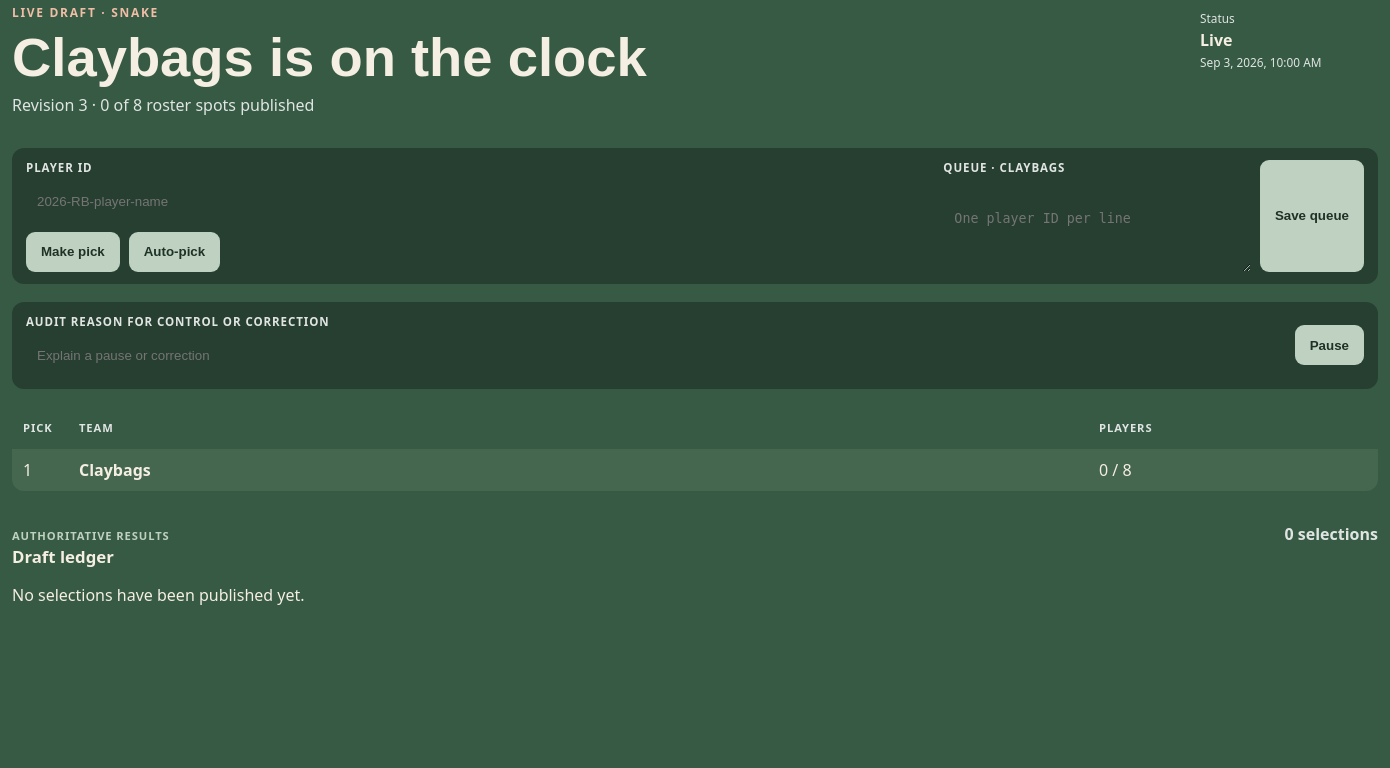
native draft workspace › sends a commissioner pick with exact draft and season revisions
Expected: the heading "Claybags is on the clock" is shown, [12,28,647,88]
Type "2026-RB-jahmyr-gibbs" into the field with placeholder "2026-RB-player-name".
click(477, 202); type("2026-RB-jahmyr-gibbs")  # box [26,181,927,223]
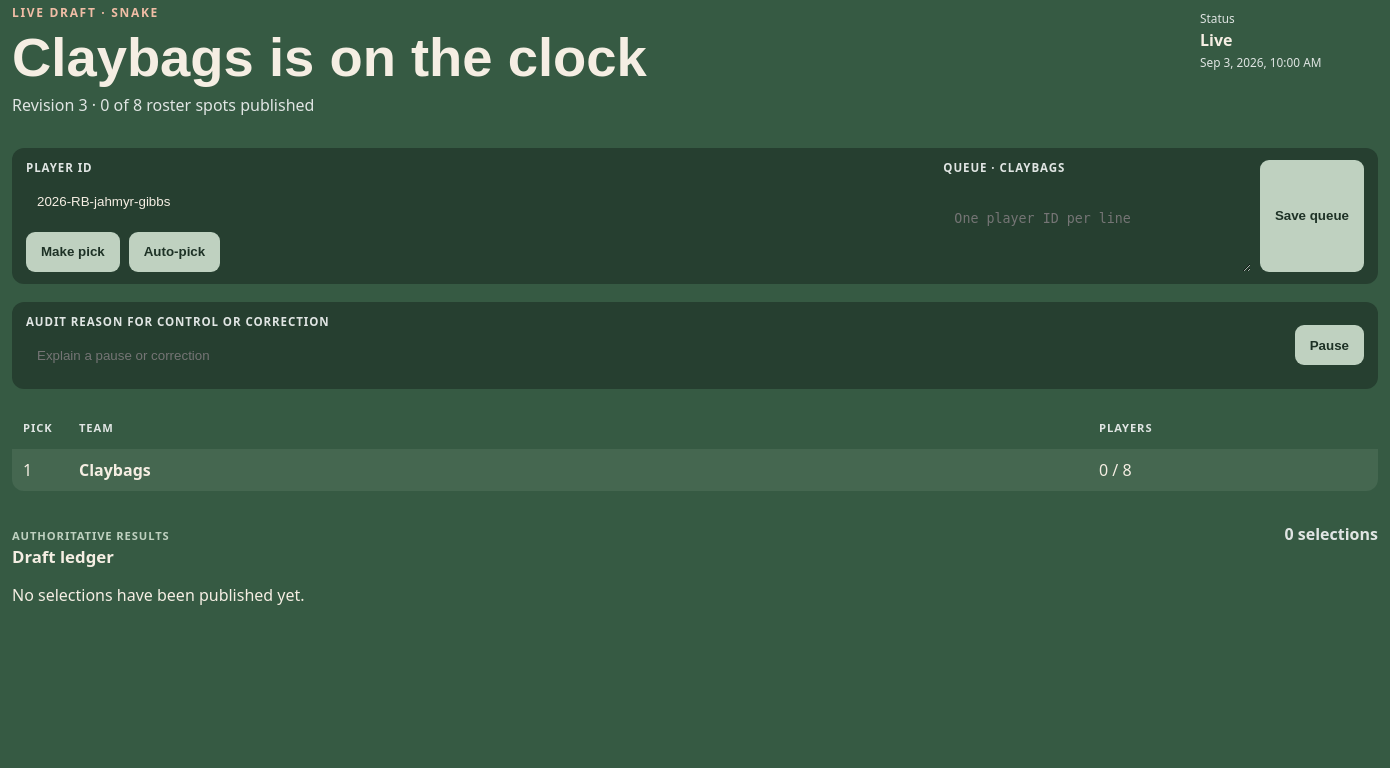
Click the button "Make pick".
click(73, 252)  # box [26,232,120,272]
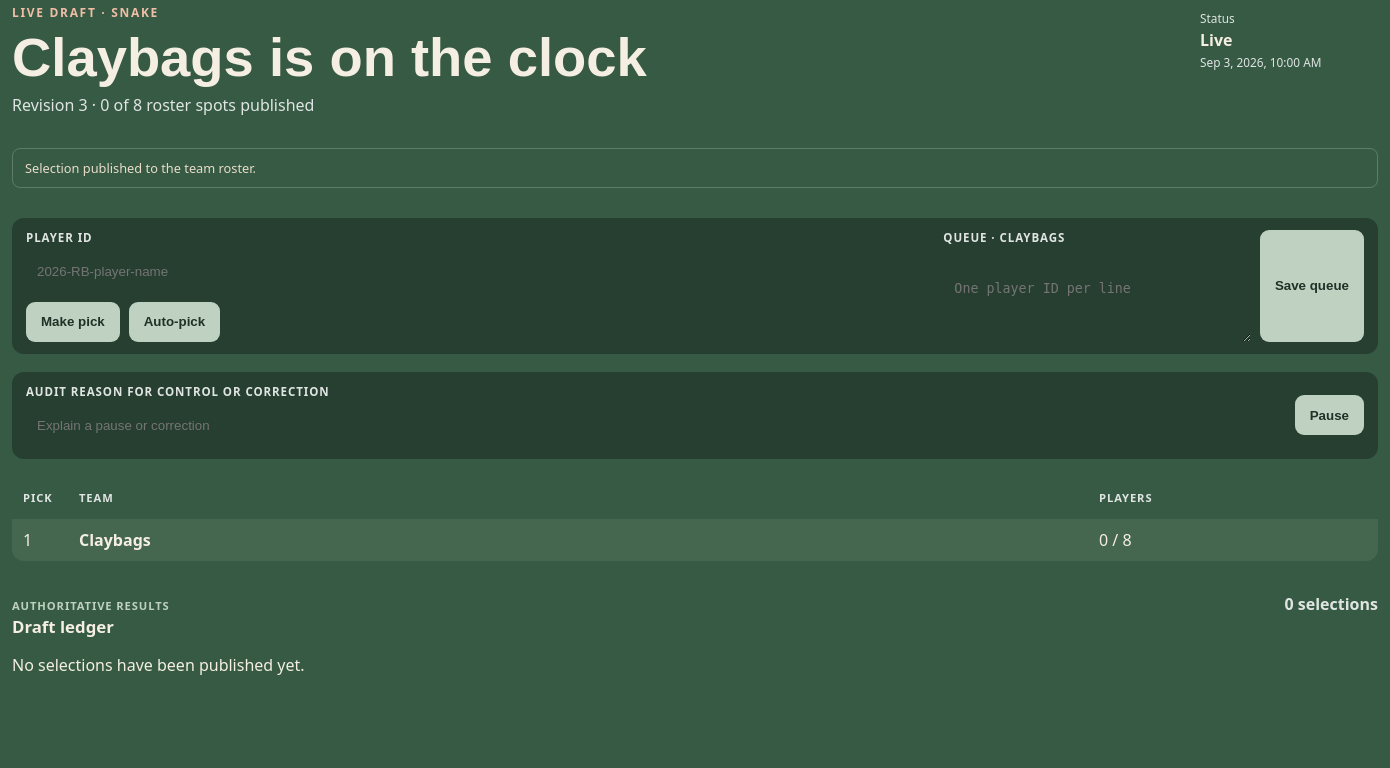
Expected: the text "Selection published to the team roster." is shown, [12,148,1378,188]
